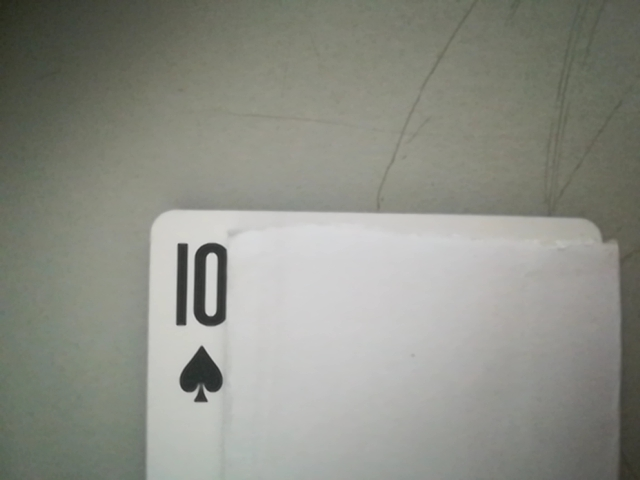ht 10: (155, 225, 244, 410)
